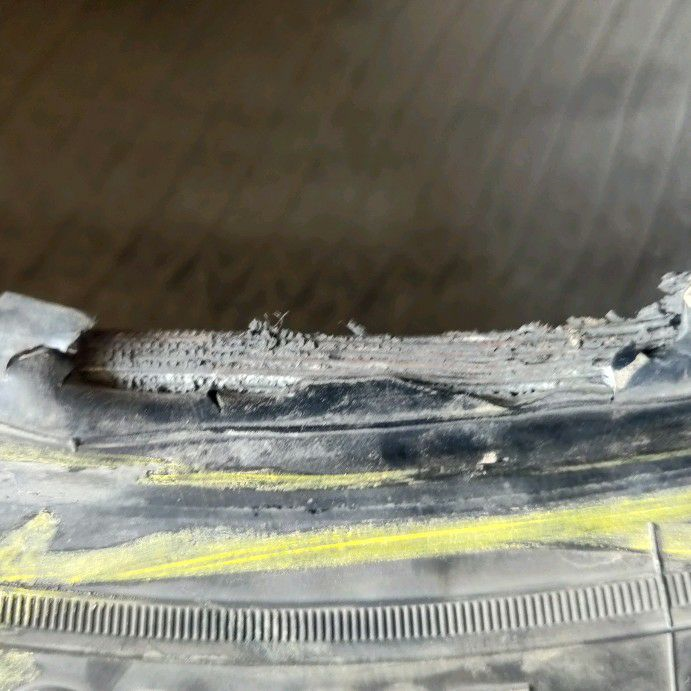bead_damage: (1, 267, 690, 502)
